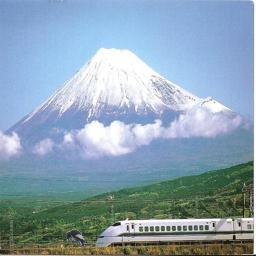Woodpecker: (65, 229, 86, 248)
